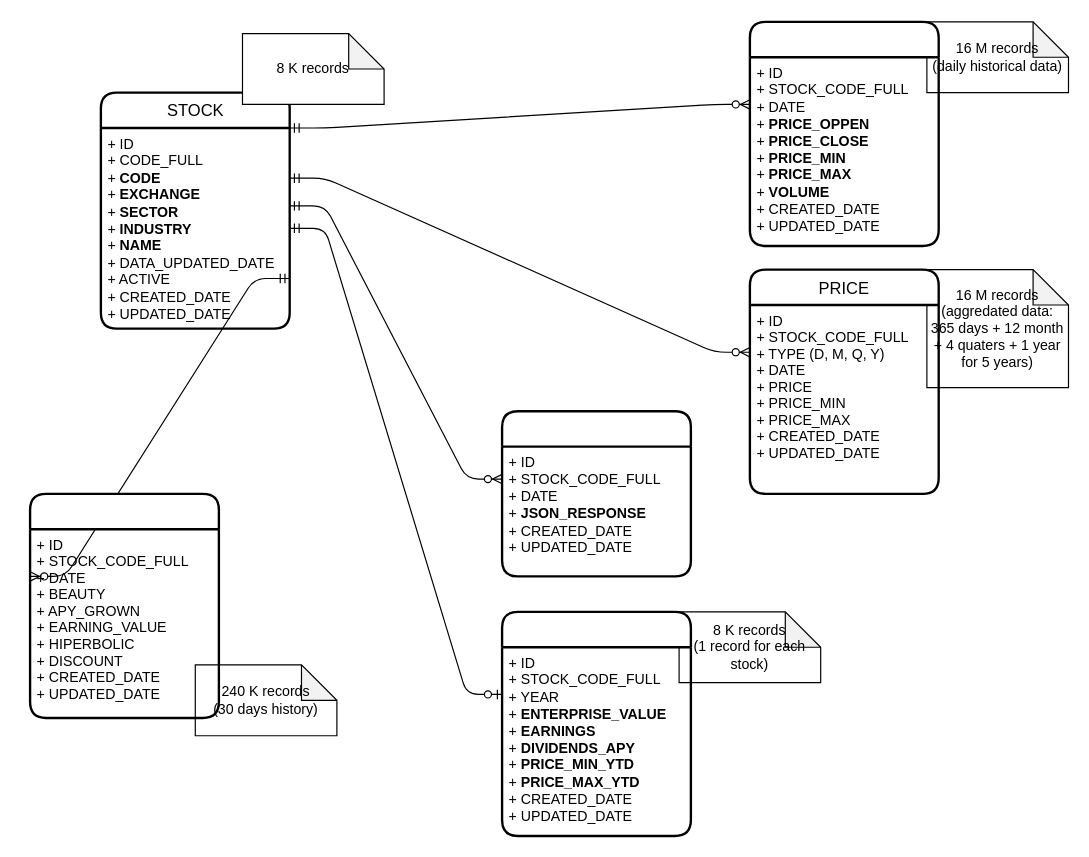
The diagram is 1089 pixels wide and 857 high, and some of its shapes have lost their labels. The shapes that lost their labels are listed below. From the top down, each one's box as (x1, y1, x2, y2) in pixels, then its label:
(748, 20, 939, 247): PRICE_DATA
(500, 409, 691, 577): FINANCIAL_DATA
(28, 492, 219, 719): RATING
(500, 610, 691, 837): FINANCIAL
